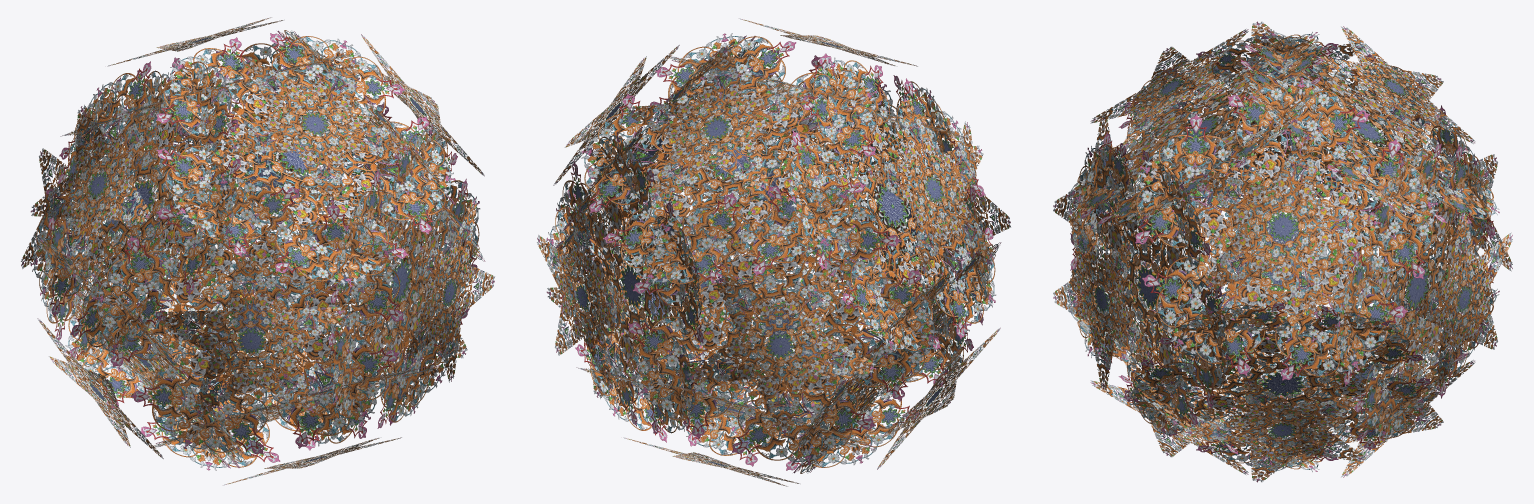
The model's file is 8SnubIcosidodecadodecahedron.gltf.
The picture shows the model from 3 angles, left to right: view 1: azimuth 30°, elevation 25°; view 2: azimuth 150°, elevation 25°; view 3: azimuth 270°, elevation 25°; orthographic projection.
Visible parts, largest first — view 1: SnubIcosidodecadodecahedron8; view 2: SnubIcosidodecadodecahedron8; view 3: SnubIcosidodecadodecahedron8.
Boxes of the visible parts, x1,y1,x2,y2 form: SnubIcosidodecadodecahedron8: (21,17,494,485); SnubIcosidodecadodecahedron8: (537,18,1010,486); SnubIcosidodecadodecahedron8: (1053,21,1512,482).
Bounding box in the file's own units: 2.21 × 2.21 × 2.21.
Materials: 1 (1 with a texture image).
